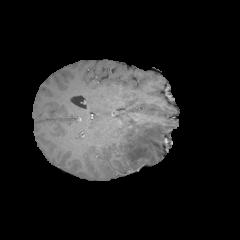glioma: (118, 120, 171, 169)
